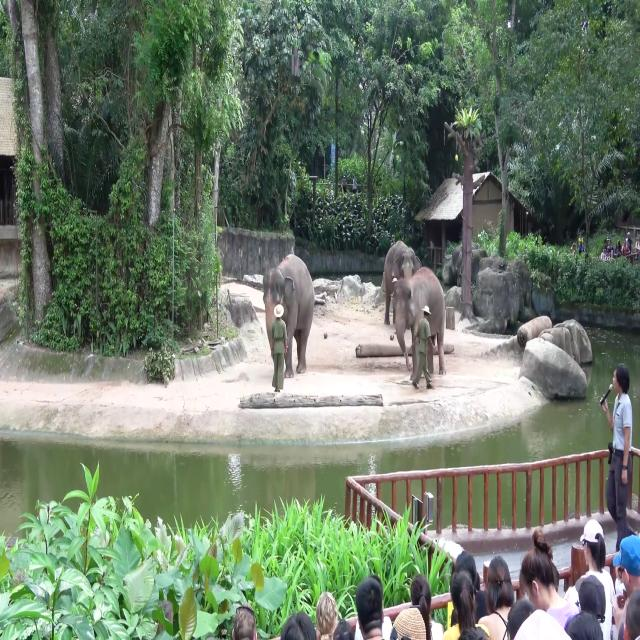Elephant: (262, 253, 315, 378), (392, 266, 446, 378), (381, 240, 422, 326)
person: (601, 363, 637, 552), (411, 306, 434, 390), (271, 304, 288, 392)
